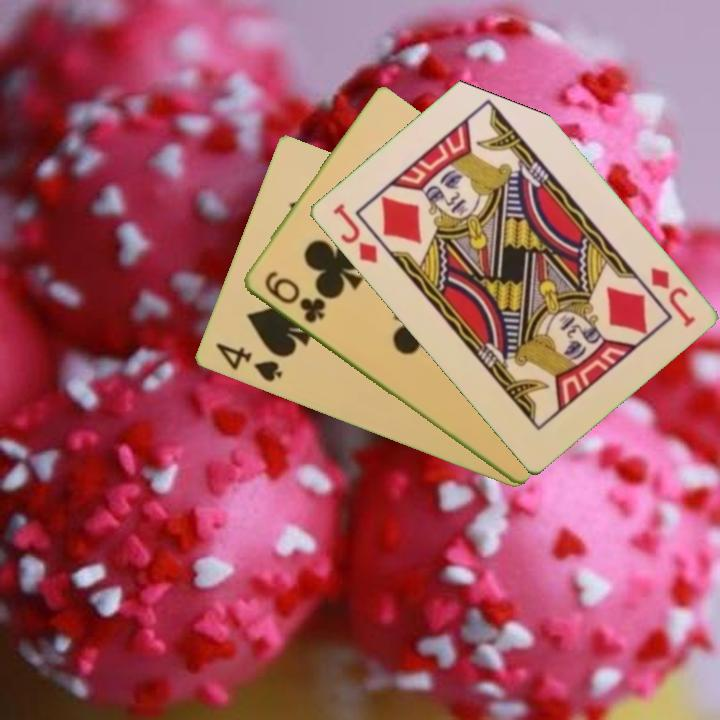4s: (211, 339, 285, 385)
6c: (260, 267, 328, 327)
Jd: (328, 199, 380, 267), (646, 263, 698, 331)
